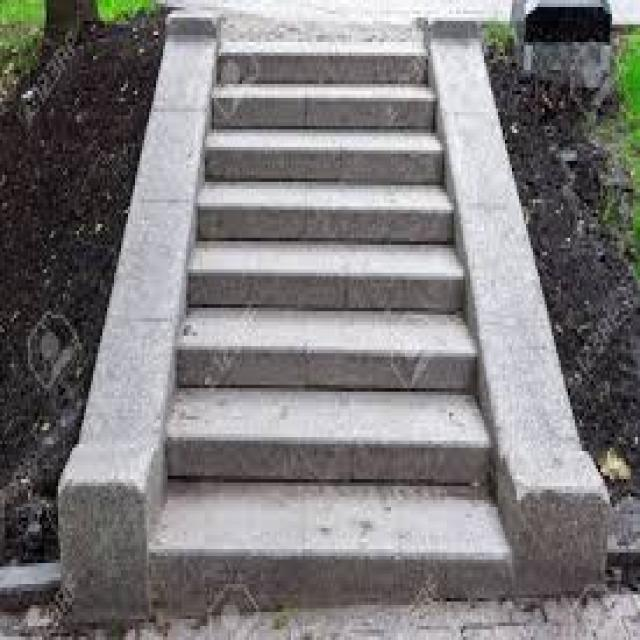upstair: (139, 47, 523, 585)
